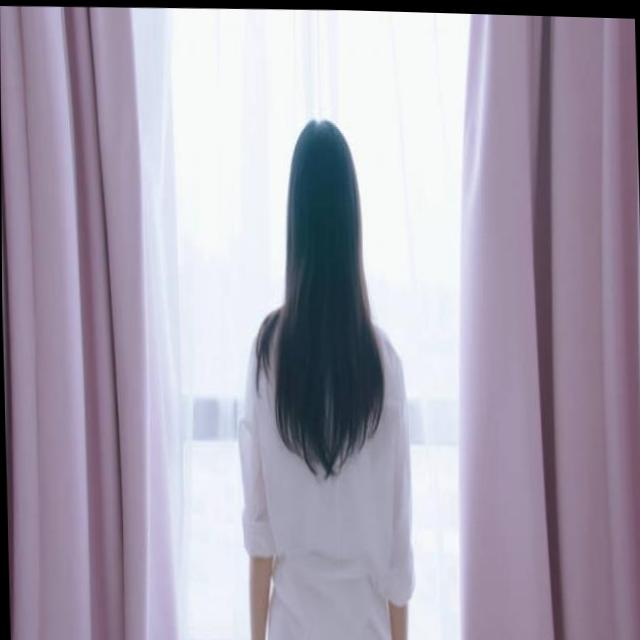no helmet: (279, 110, 377, 327)
